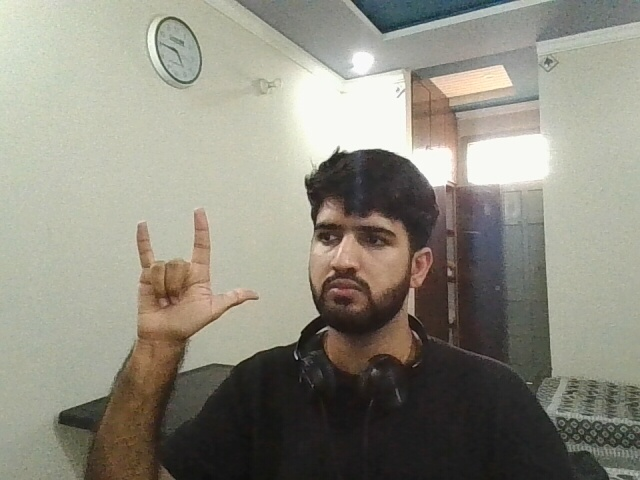I Love You: (84, 197, 279, 349)
